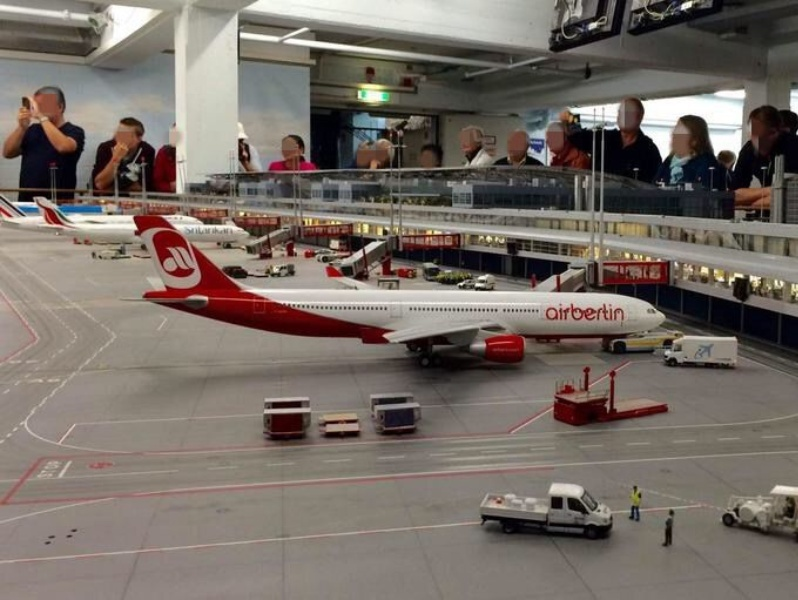text: (561, 303, 576, 322), (577, 303, 592, 322), (593, 303, 608, 322), (609, 303, 624, 322), (547, 303, 560, 322), (193, 228, 208, 235), (209, 228, 224, 235), (225, 228, 233, 235), (186, 228, 192, 235)
